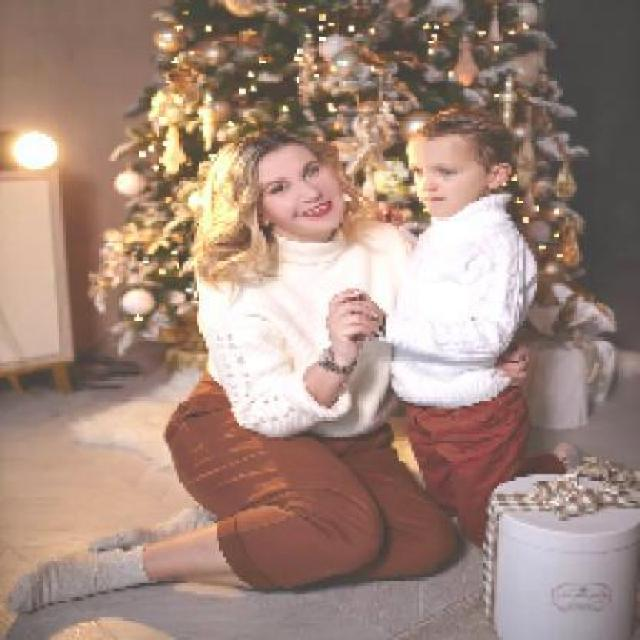child: (347, 107, 584, 550)
